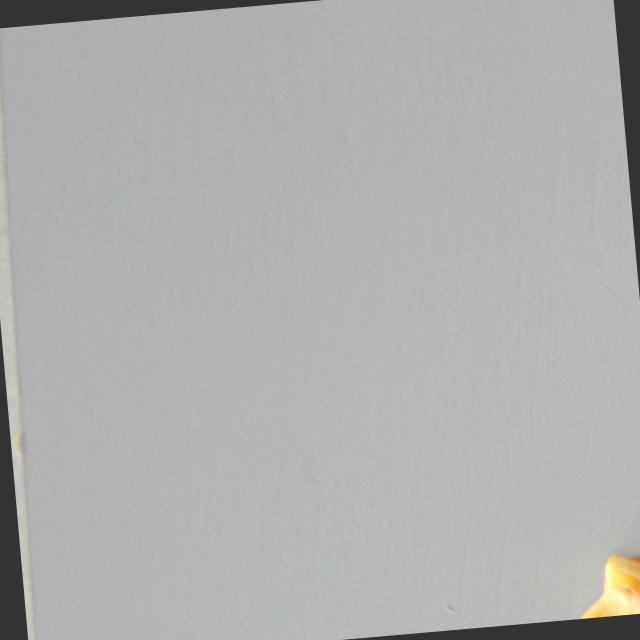pelicula: (572, 549, 640, 619)
